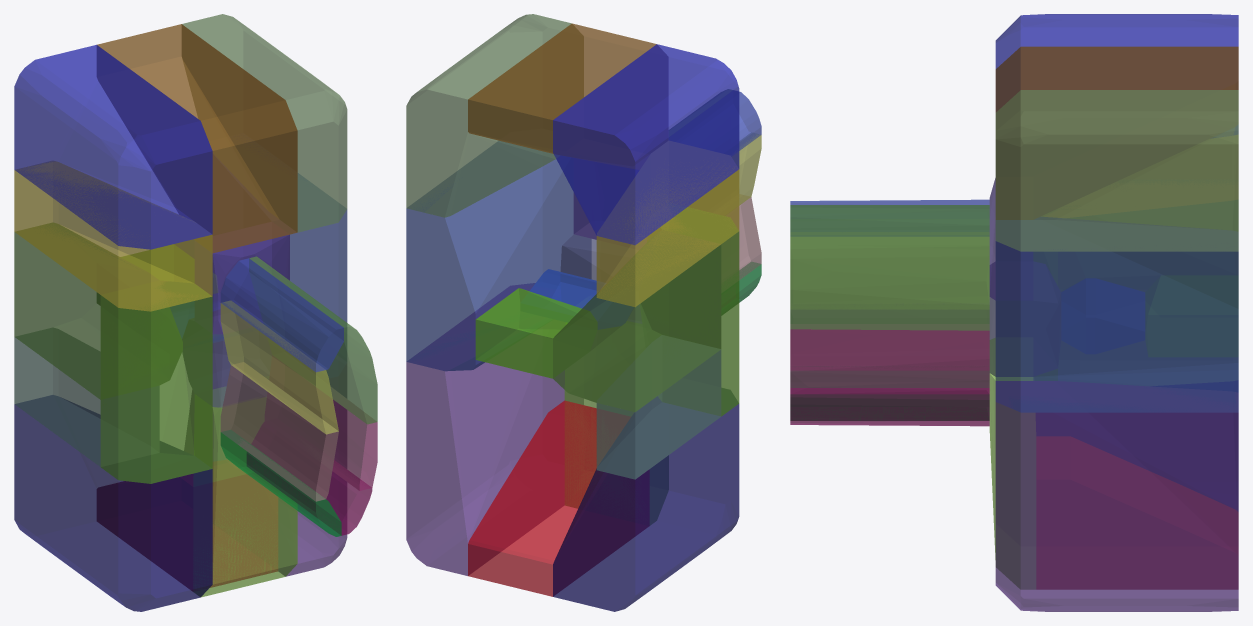
The model's file is Tool_holder.obj.
3 renders of one model, left to right at view 1: azimuth 30°, elevation 25°; view 2: azimuth 150°, elevation 25°; view 3: azimuth 270°, elevation 25°, orthographic. The views are drawn at different scales.
Parts seen in each view (by area): view 1: Shape_IndexedFaceSet.009_Shape_IndexedFaceSet.198, Shape_IndexedFaceSet.007_Shape_IndexedFaceSet.196, Shape_IndexedFaceSet.015_Shape_IndexedFaceSet.204, Shape_IndexedFaceSet.016_Shape_IndexedFaceSet.205, Shape_IndexedFaceSet.011_Shape_IndexedFaceSet.200, Shape_IndexedFaceSet.018_Shape_IndexedFaceSet.207, Shape_IndexedFaceSet.008_Shape_IndexedFaceSet.197, Shape_IndexedFaceSet.013_Shape_IndexedFaceSet.202, Shape_IndexedFaceSet.012_Shape_IndexedFaceSet.201, Shape_IndexedFaceSet.017_Shape_IndexedFaceSet.206, Shape_IndexedFaceSet.014_Shape_IndexedFaceSet.203, Shape_IndexedFaceSet_Shape_IndexedFaceSet.189 (+11 smaller); view 2: Shape_IndexedFaceSet.010_Shape_IndexedFaceSet.199, Shape_IndexedFaceSet.014_Shape_IndexedFaceSet.203, Shape_IndexedFaceSet.007_Shape_IndexedFaceSet.196, Shape_IndexedFaceSet.009_Shape_IndexedFaceSet.198, Shape_IndexedFaceSet.016_Shape_IndexedFaceSet.205, Shape_IndexedFaceSet.018_Shape_IndexedFaceSet.207, Shape_IndexedFaceSet.013_Shape_IndexedFaceSet.202, Shape_IndexedFaceSet.015_Shape_IndexedFaceSet.204, Shape_IndexedFaceSet.008_Shape_IndexedFaceSet.197, Shape_IndexedFaceSet.017_Shape_IndexedFaceSet.206, Shape_IndexedFaceSet.011_Shape_IndexedFaceSet.200, Shape_IndexedFaceSet.021_Shape_IndexedFaceSet.210 (+8 smaller); view 3: Shape_IndexedFaceSet.010_Shape_IndexedFaceSet.199, Shape_IndexedFaceSet.014_Shape_IndexedFaceSet.203, Shape_IndexedFaceSet.016_Shape_IndexedFaceSet.205, Shape_IndexedFaceSet.015_Shape_IndexedFaceSet.204, Shape_IndexedFaceSet_Shape_IndexedFaceSet.189, Shape_IndexedFaceSet.013_Shape_IndexedFaceSet.202, Shape_IndexedFaceSet.009_Shape_IndexedFaceSet.198, Shape_IndexedFaceSet.005_Shape_IndexedFaceSet.194, Shape_IndexedFaceSet.004_Shape_IndexedFaceSet.193, Shape_IndexedFaceSet.007_Shape_IndexedFaceSet.196, Shape_IndexedFaceSet.002_Shape_IndexedFaceSet.191, Shape_IndexedFaceSet.001_Shape_IndexedFaceSet.190 (+10 smaller).
Part boxes in pixels (left/top/right/bottom): Shape_IndexedFaceSet.009_Shape_IndexedFaceSet.198: left=14, top=44, right=212, bottom=249; Shape_IndexedFaceSet.007_Shape_IndexedFaceSet.196: left=14, top=395, right=212, bottom=611; Shape_IndexedFaceSet.015_Shape_IndexedFaceSet.204: left=97, top=24, right=297, bottom=253; Shape_IndexedFaceSet.016_Shape_IndexedFaceSet.205: left=182, top=14, right=347, bottom=232; Shape_IndexedFaceSet.011_Shape_IndexedFaceSet.200: left=100, top=281, right=212, bottom=483; Shape_IndexedFaceSet.018_Shape_IndexedFaceSet.207: left=14, top=223, right=182, bottom=399; Shape_IndexedFaceSet.008_Shape_IndexedFaceSet.197: left=14, top=161, right=212, bottom=311; Shape_IndexedFaceSet.013_Shape_IndexedFaceSet.202: left=97, top=460, right=277, bottom=590; Shape_IndexedFaceSet.012_Shape_IndexedFaceSet.201: left=194, top=387, right=297, bottom=597; Shape_IndexedFaceSet.017_Shape_IndexedFaceSet.206: left=14, top=328, right=159, bottom=466; Shape_IndexedFaceSet.014_Shape_IndexedFaceSet.203: left=175, top=154, right=347, bottom=361; Shape_IndexedFaceSet_Shape_IndexedFaceSet.189: left=249, top=256, right=377, bottom=424; Shape_IndexedFaceSet.010_Shape_IndexedFaceSet.199: left=406, top=283, right=583, bottom=575; Shape_IndexedFaceSet.014_Shape_IndexedFaceSet.203: left=406, top=141, right=590, bottom=371; Shape_IndexedFaceSet.007_Shape_IndexedFaceSet.196: left=553, top=388, right=739, bottom=611; Shape_IndexedFaceSet.009_Shape_IndexedFaceSet.198: left=553, top=44, right=739, bottom=245; Shape_IndexedFaceSet.016_Shape_IndexedFaceSet.205: left=406, top=14, right=583, bottom=217; Shape_IndexedFaceSet.018_Shape_IndexedFaceSet.207: left=553, top=230, right=721, bottom=412; Shape_IndexedFaceSet.013_Shape_IndexedFaceSet.202: left=468, top=400, right=648, bottom=596; Shape_IndexedFaceSet.015_Shape_IndexedFaceSet.204: left=468, top=23, right=667, bottom=169; Shape_IndexedFaceSet.008_Shape_IndexedFaceSet.197: left=596, top=141, right=739, bottom=307; Shape_IndexedFaceSet.017_Shape_IndexedFaceSet.206: left=596, top=335, right=721, bottom=479; Shape_IndexedFaceSet.011_Shape_IndexedFaceSet.200: left=640, top=207, right=739, bottom=416; Shape_IndexedFaceSet.021_Shape_IndexedFaceSet.210: left=475, top=288, right=596, bottom=378; Shape_IndexedFaceSet.010_Shape_IndexedFaceSet.199: left=995, top=381, right=1238, bottom=611; Shape_IndexedFaceSet.014_Shape_IndexedFaceSet.203: left=995, top=217, right=1238, bottom=412; Shape_IndexedFaceSet.016_Shape_IndexedFaceSet.205: left=995, top=90, right=1238, bottom=251; Shape_IndexedFaceSet.015_Shape_IndexedFaceSet.204: left=995, top=46, right=1238, bottom=219; Shape_IndexedFaceSet_Shape_IndexedFaceSet.189: left=790, top=205, right=989, bottom=330; Shape_IndexedFaceSet.013_Shape_IndexedFaceSet.202: left=1037, top=437, right=1237, bottom=588; Shape_IndexedFaceSet.009_Shape_IndexedFaceSet.198: left=995, top=14, right=1238, bottom=134; Shape_IndexedFaceSet.005_Shape_IndexedFaceSet.194: left=791, top=237, right=988, bottom=308; Shape_IndexedFaceSet.004_Shape_IndexedFaceSet.193: left=790, top=324, right=989, bottom=394; Shape_IndexedFaceSet.007_Shape_IndexedFaceSet.196: left=1036, top=381, right=1237, bottom=510; Shape_IndexedFaceSet.002_Shape_IndexedFaceSet.191: left=791, top=310, right=988, bottom=369; Shape_IndexedFaceSet.001_Shape_IndexedFaceSet.190: left=790, top=371, right=989, bottom=420.
Bounding box in the file's own units: 4.05 × 8.05 × 6.55.
